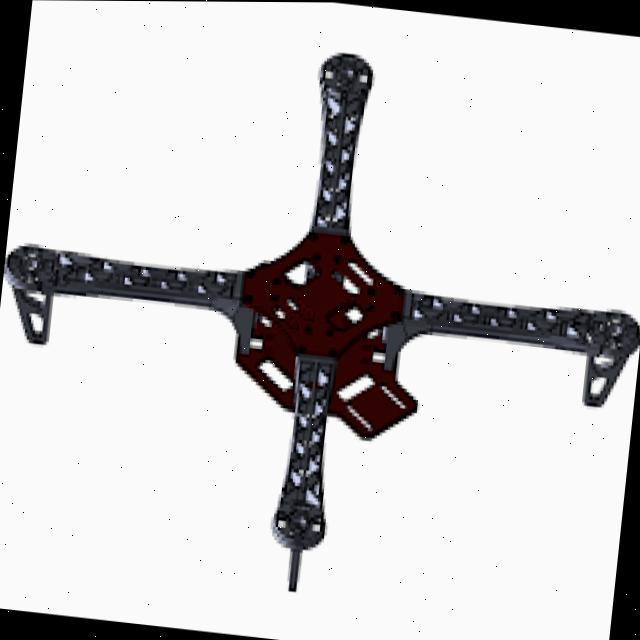drone: (0, 0, 640, 634)
